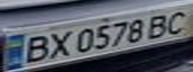0: (72, 25, 96, 55)
5: (93, 21, 115, 52)
7: (109, 19, 133, 47)
8: (124, 16, 151, 44)
B: (15, 33, 54, 65), (142, 10, 175, 39)
C: (160, 7, 193, 36)
X: (42, 28, 75, 61)
